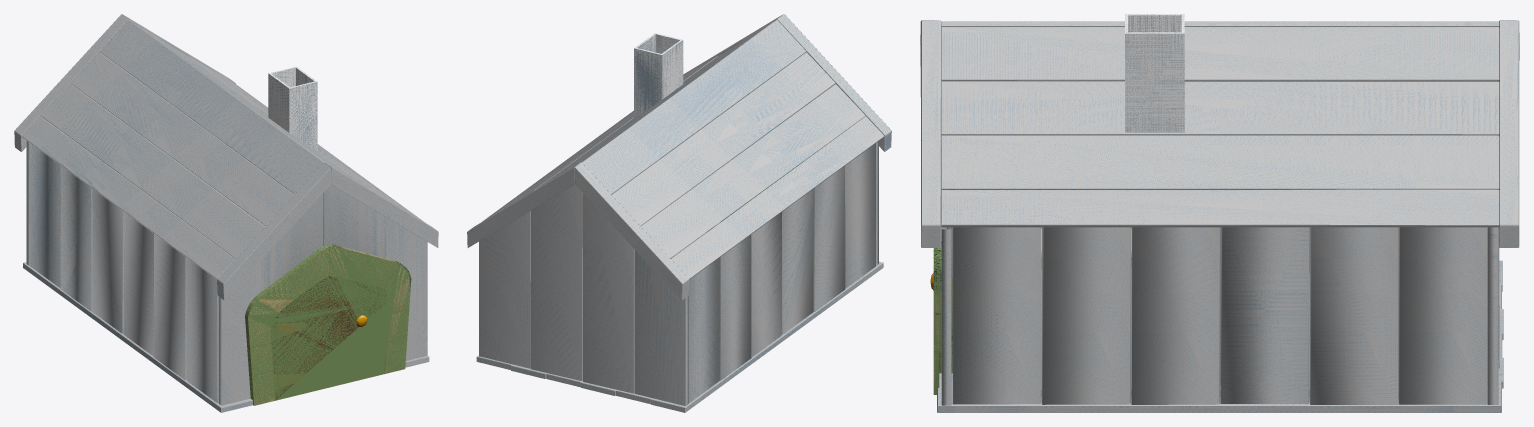
File: wood_House.fbx
3 views of the same model, side by side, from view 1: azimuth 30°, elevation 25°; view 2: azimuth 150°, elevation 25°; view 3: azimuth 270°, elevation 25° (orthographic). The views are drawn at different scales.
Parts seen in each view (by area): view 1: Group4, Group2, Group1, Group14, Group15, Group3, Group6; view 2: Group2, Group4, Group3, Group15, Group6, Group14; view 3: Group4, Group2, Group15, Group6, Group3, Group14, Group1, Model.
Boxes of the visible parts, x1,y1,x2,y2 form: Group4: [21, 20, 423, 279]; Group2: [26, 54, 427, 405]; Group1: [245, 244, 411, 405]; Group14: [217, 162, 438, 300]; Group15: [268, 66, 317, 150]; Group3: [14, 14, 235, 151]; Group6: [23, 236, 429, 412]; Group2: [479, 53, 878, 405]; Group4: [482, 20, 884, 279]; Group3: [467, 162, 689, 300]; Group15: [634, 33, 683, 117]; Group6: [476, 233, 883, 412]; Group14: [683, 14, 891, 151]; Group4: [941, 21, 1498, 227]; Group2: [941, 28, 1499, 405]; Group15: [1125, 14, 1184, 132]; Group6: [937, 260, 1503, 412]; Group3: [1499, 20, 1519, 247]; Group14: [920, 20, 940, 247]; Group1: [933, 140, 952, 394]; Model: [940, 20, 1499, 247].
Size of the model in its own units: 770 by 832 by 1301.
